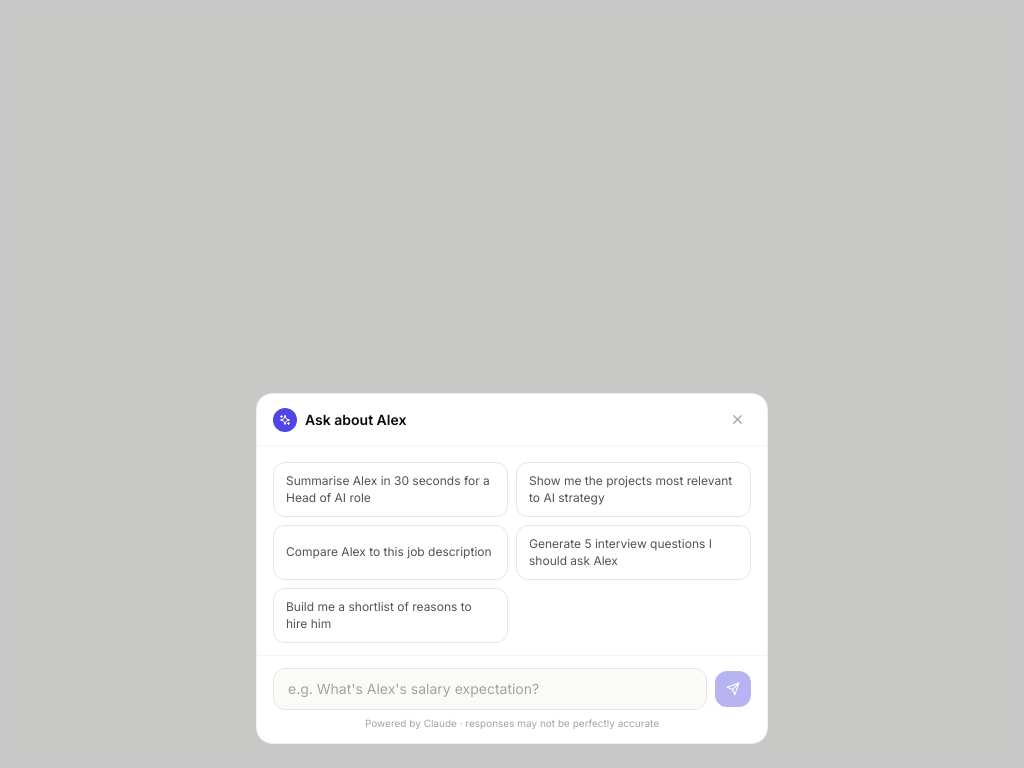
Test: QAOverlay › displays assistant reply after successful fetch
Type "Tell me about Alex" into the field with placeholder "e.g. What's Alex's salary expectation?".
click(490, 689); type("Tell me about Alex")  # box [273,668,707,710]
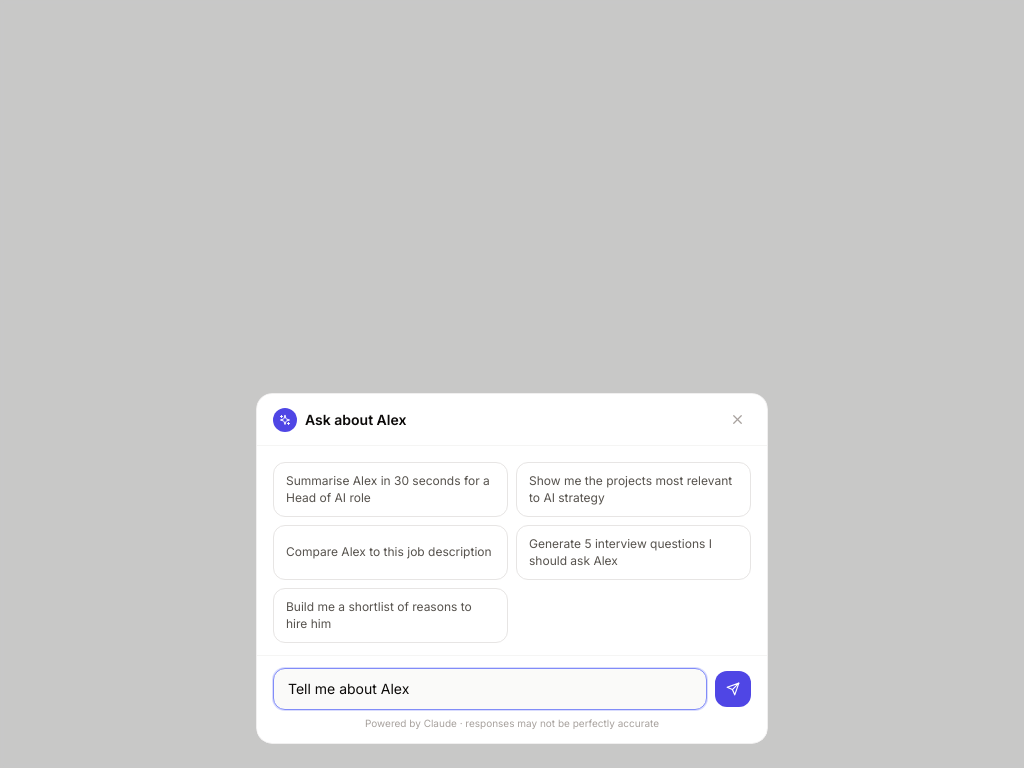
Click the 7th button.
click(733, 689)  # box [715,671,751,707]
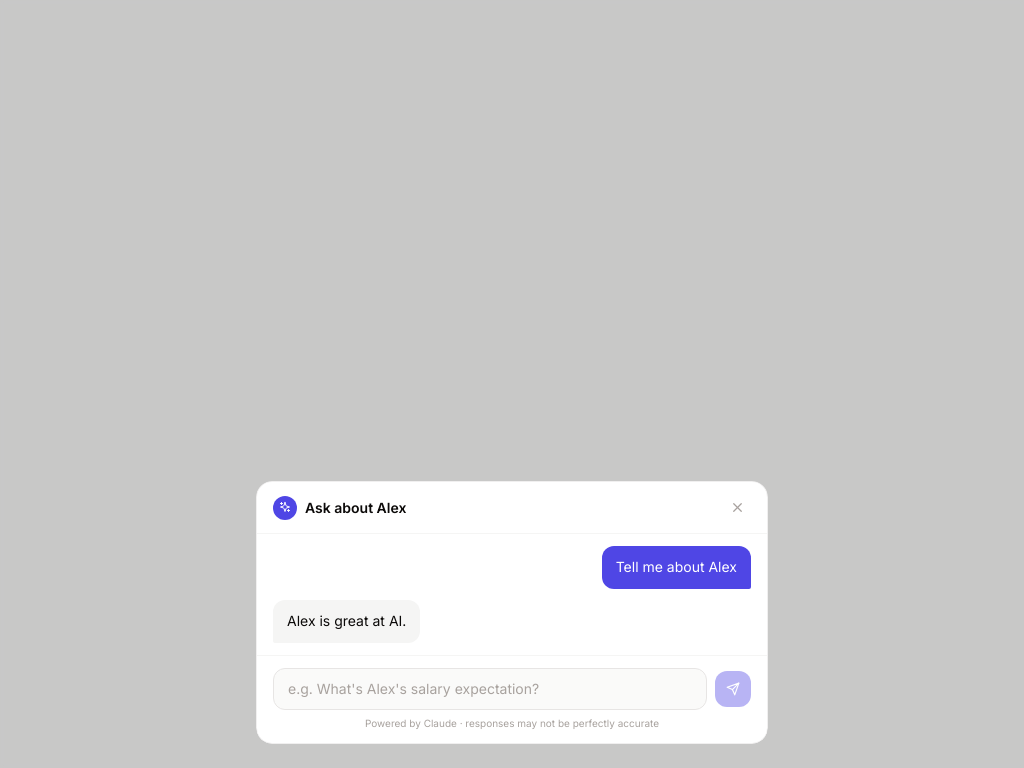
Expected: the text "Alex is great at AI." is shown, [273,600,420,643]
